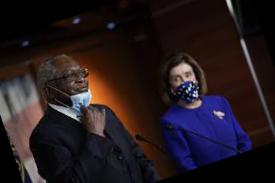mask_weared_incorrect: (57, 59, 101, 110)
with_mask: (169, 66, 200, 97)
